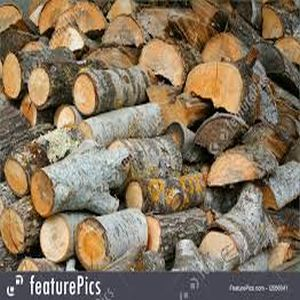log: (183, 62, 245, 112), (35, 1, 109, 36), (139, 37, 186, 87), (187, 112, 244, 151), (73, 216, 111, 271), (206, 150, 261, 185), (198, 31, 246, 65), (39, 214, 72, 262), (28, 169, 59, 220), (99, 15, 149, 45), (1, 207, 28, 257), (3, 155, 30, 201), (25, 65, 52, 109), (72, 71, 98, 116), (47, 26, 86, 55), (2, 51, 22, 100), (261, 6, 285, 40), (124, 179, 146, 214), (53, 105, 78, 130)
